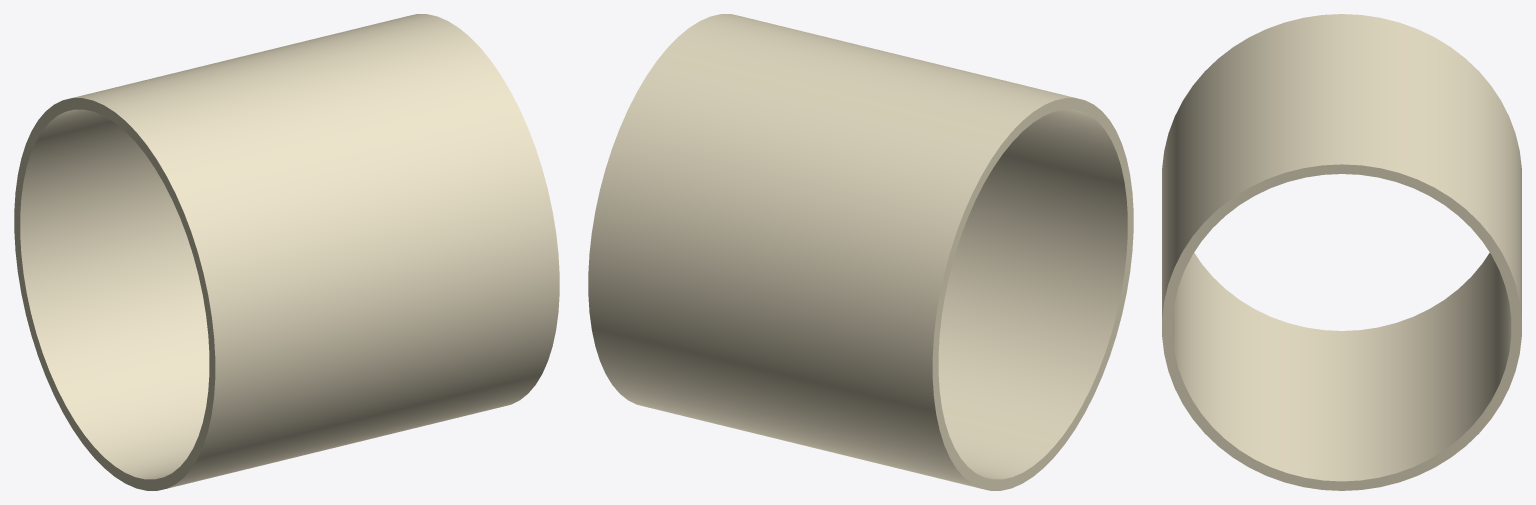
File: ignition-coil-insulation.glb
The picture shows the model from 3 angles, left to right: view 1: azimuth 30°, elevation 25°; view 2: azimuth 150°, elevation 25°; view 3: azimuth 270°, elevation 25°; orthographic projection. The views are drawn at different scales.
Visible parts, largest first — view 1: world; view 2: world; view 3: world.
Boxes of the visible parts, <box> form: world: <box>14,14,559,490</box>; world: <box>588,14,1133,490</box>; world: <box>1162,14,1521,490</box>.
Size of the model in its own units: 0.0405 by 0.041 by 0.0409.
